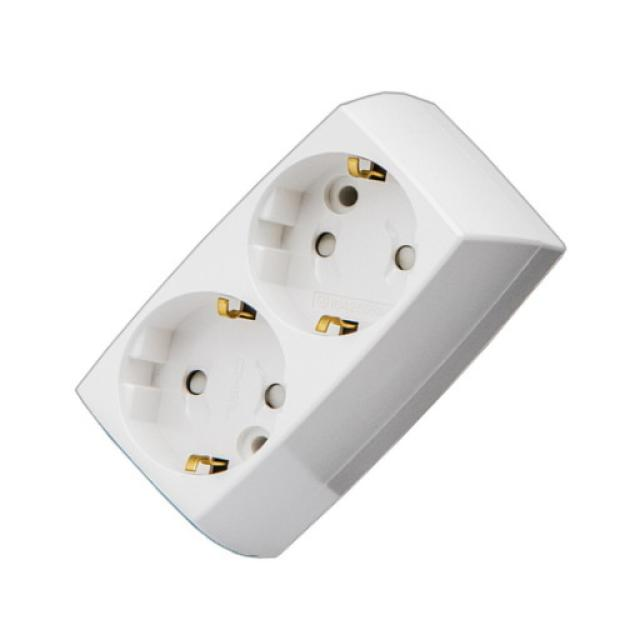typeb: (27, 87, 581, 581)
